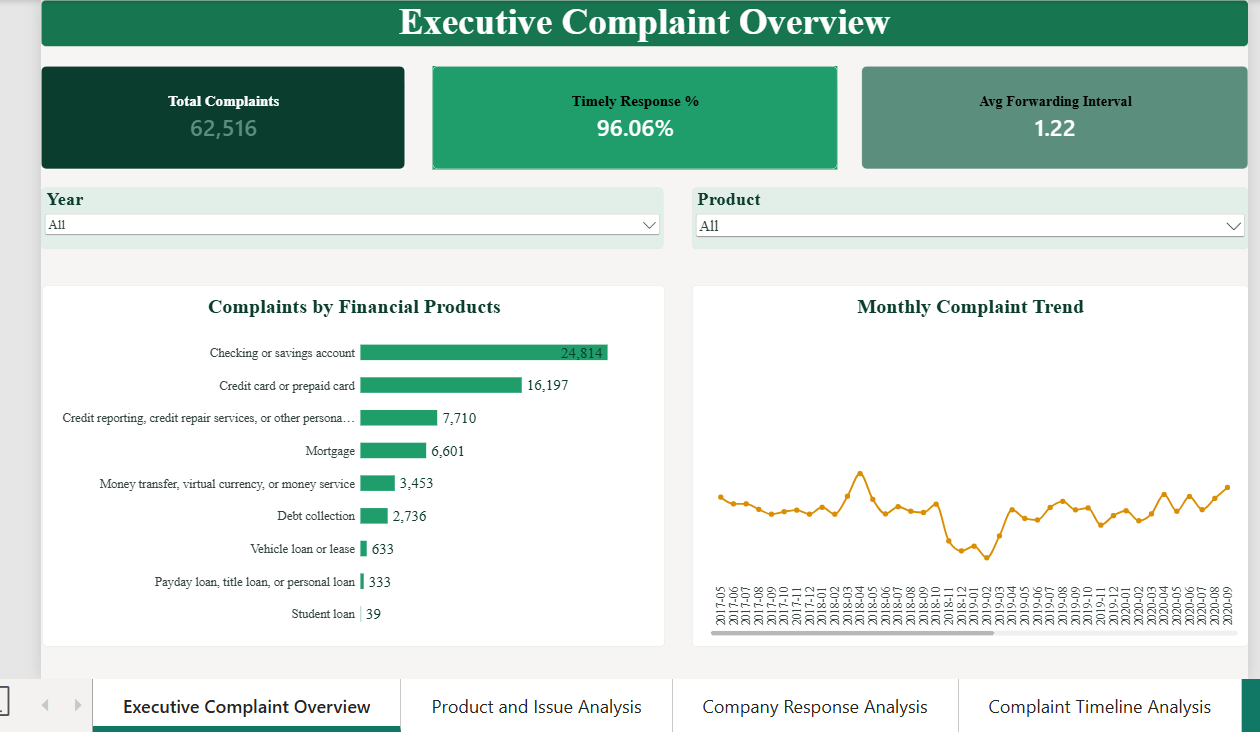

The page's visual inventory and layout, read from the dashboard file:
{"tool":"powerbi","page":{"name":"Executive Complaint Overview","canvas":[1920,1080],"ordinal":0},"visuals":[{"type":"cardVisual","fields":{"Data":["Data.Timely Response %"]},"box":[622.7,105,644.2,164.6],"z":1000},{"type":"cardVisual","fields":{"Data":["Data.Avg Forwarding Interval"]},"box":[1305.1,105,615.6,164.6],"z":2000},{"type":"lineChart","title":"Monthly Complaint Trend","fields":{"Category":["Data.Year-Month"],"Y":["Data.Total Complaints"]},"box":[1035.5,453.3,885.2,575],"z":3000},{"type":"clusteredBarChart","title":"Complaints by Financial Products","fields":{"Category":["Data.Product"],"Y":["Data.Total Complaints"]},"box":[2.4,453.3,990.2,575],"z":4000},{"type":"slicer","fields":{"Values":["Data.Product"]},"box":[1035.5,298.2,885.2,97.8],"z":5000},{"type":"slicer","fields":{"Values":["Data.Date received.Variation.Date Hierarchy.Year"]},"box":[0,298.2,990.2,97.8],"z":6000},{"type":"textbox","box":[0,0,1920.7,74],"z":7000},{"type":"cardVisual","fields":{"Data":["Data.Total Complaints Display"]},"box":[0,105,579.8,164.6],"z":8000}]}

Visuals, with their boxes on the page's 1920x1080 design canvas (x1, y1, x2, y2). These are canvas units, not pixel positions in the 1260x732 screenshot, which may show the page scaled, cropped or inside an application window:
cardVisual - Data.Timely Response %: 623,105,1267,270
cardVisual - Data.Avg Forwarding Interval: 1305,105,1921,270
"Monthly Complaint Trend" lineChart: 1036,453,1921,1028
"Complaints by Financial Products" clusteredBarChart: 2,453,993,1028
slicer - Data.Product: 1036,298,1921,396
slicer - Data.Date received.Variation.Date Hierarchy.Year: 0,298,990,396
textbox: 0,0,1921,74
cardVisual - Data.Total Complaints Display: 0,105,580,270
